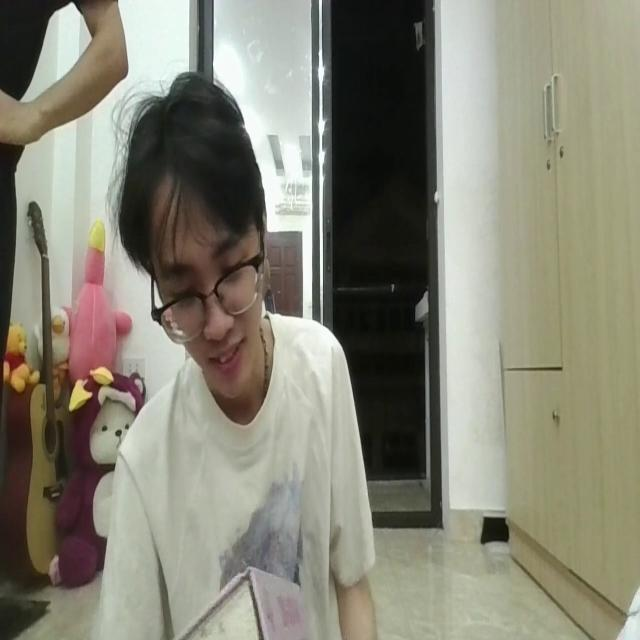student: (108, 66, 372, 640)
